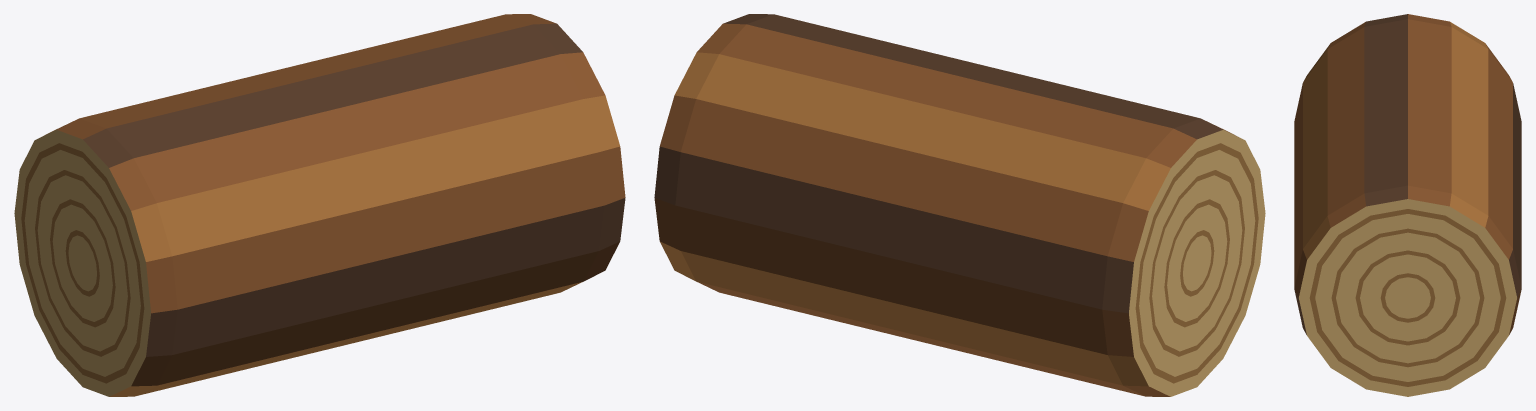
Rendered from poleno.glb.
The picture shows the model from 3 angles, left to right: view 1: azimuth 30°, elevation 25°; view 2: azimuth 150°, elevation 25°; view 3: azimuth 270°, elevation 25°; orthographic projection. The views are drawn at different scales.
Parts seen in each view (by area): view 1: half_b_bark, half_a_bark, half_b_flesh, half_b_bark_fissure, half_a_bark_fissure, half_b_bark_light, half_a_bark_light, half_b_growth_ring; view 2: half_b_bark, half_a_bark, half_b_flesh, half_b_bark_light, half_a_bark_light, half_b_bark_fissure, half_a_bark_fissure, half_b_growth_ring; view 3: half_a_flesh, half_a_bark, half_b_bark, half_a_growth_ring, half_a_bark_light, half_b_bark_light, half_a_bark_fissure, half_b_bark_fissure.
Part boxes in pixels (box(x1,y1,x2,y2)): half_b_bark: box(57, 66, 390, 386); half_a_bark: box(293, 14, 625, 333); half_b_flesh: box(14, 129, 150, 396); half_b_bark_fissure: box(83, 76, 390, 356); half_a_bark_fissure: box(320, 23, 625, 302); half_b_bark_light: box(44, 121, 385, 396); half_a_bark_light: box(348, 95, 619, 344); half_b_growth_ring: box(21, 143, 144, 383); half_b_bark: box(889, 76, 1235, 396); half_a_bark: box(654, 23, 959, 344); half_b_flesh: box(1129, 129, 1265, 396); half_b_bark_light: box(894, 106, 1170, 386); half_a_bark_light: box(660, 52, 932, 333); half_b_bark_fissure: box(889, 66, 1222, 313); half_a_bark_fissure: box(654, 14, 986, 257); half_b_growth_ring: box(1135, 143, 1258, 383); half_a_flesh: box(1299, 199, 1516, 396); half_a_bark: box(1294, 102, 1521, 334); half_b_bark: box(1294, 14, 1512, 203); half_a_growth_ring: box(1309, 209, 1506, 386); half_a_bark_light: box(1303, 110, 1488, 259); half_b_bark_light: box(1303, 22, 1488, 165); half_a_bark_fissure: box(1294, 102, 1521, 334); half_b_bark_fissure: box(1364, 14, 1521, 203).
Size of the model in its own units: 0.5 by 0.26 by 0.26.
